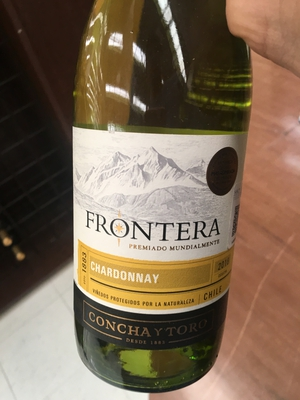frontera chardonnay: (65, 18, 247, 392)
